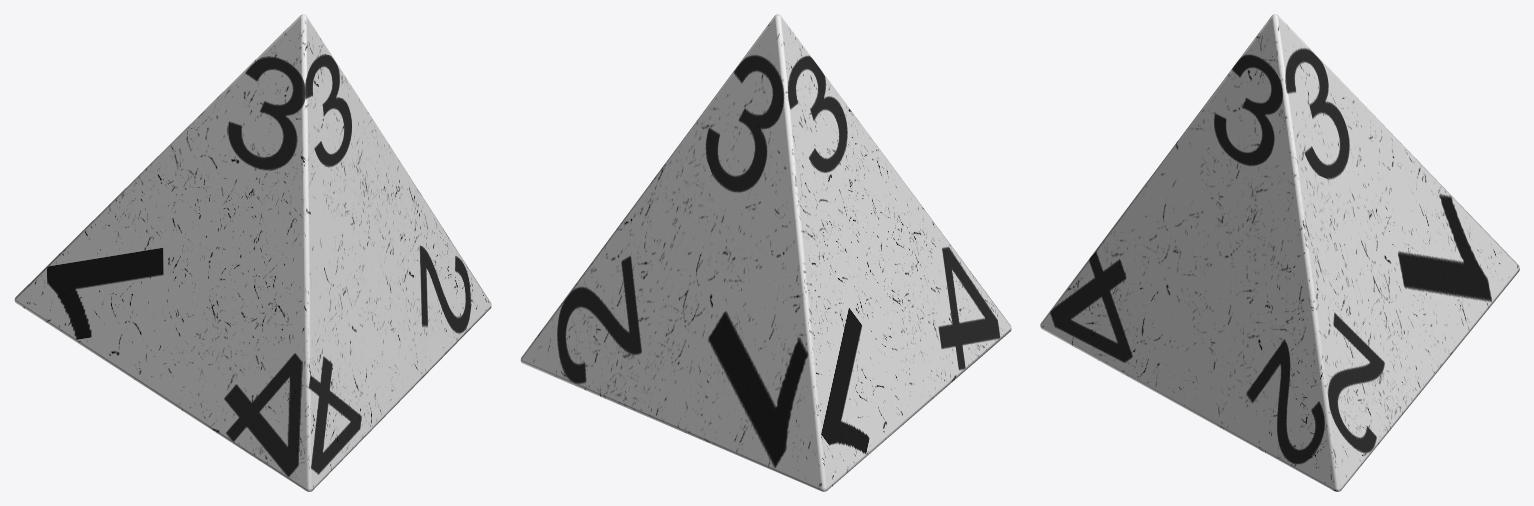
3 views of the same model, side by side, from view 1: azimuth 30°, elevation 25°; view 2: azimuth 150°, elevation 25°; view 3: azimuth 270°, elevation 25° (orthographic). The views are drawn at different scales.
Visible parts, largest first — view 1: pPyramid1; view 2: pPyramid1; view 3: pPyramid1.
Part boxes in pixels (left/top/right/bottom): pPyramid1: left=14, top=14, right=491, bottom=491; pPyramid1: left=520, top=14, right=1011, bottom=491; pPyramid1: left=1040, top=14, right=1519, bottom=491.
Bounding box in the file's own units: 2.72 × 2.48 × 2.9.
